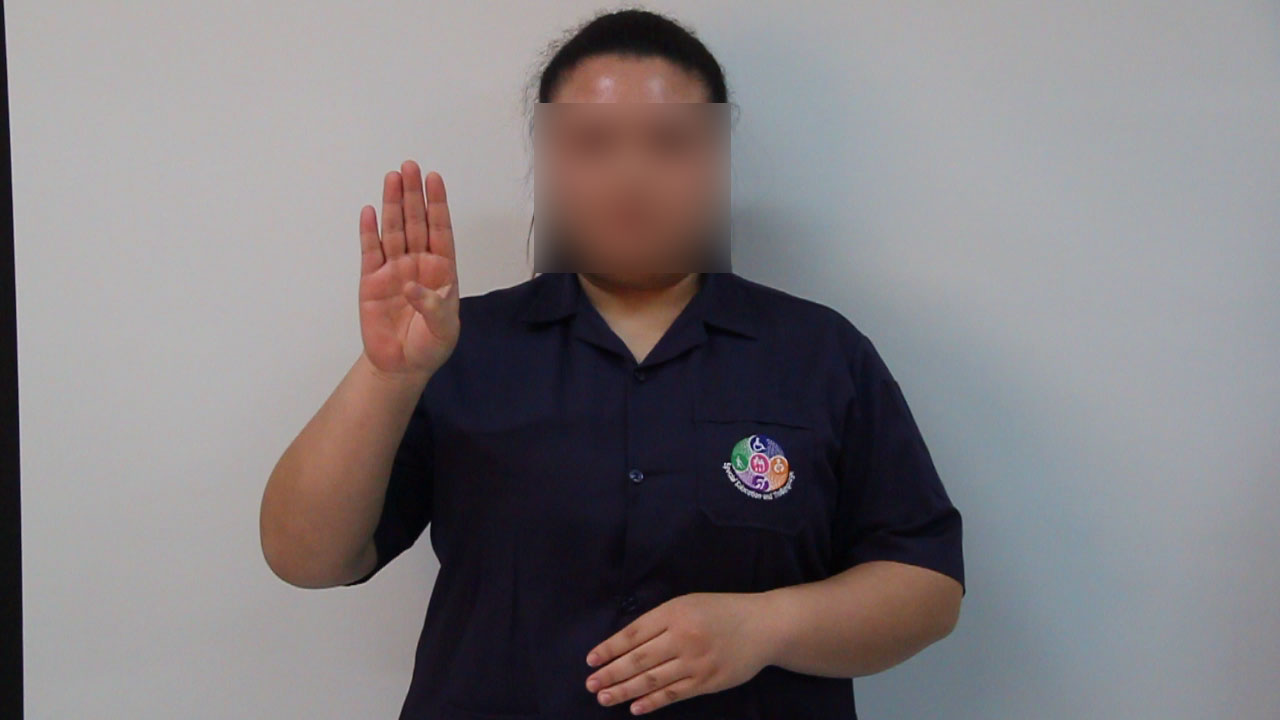bor: (338, 143, 478, 402)
